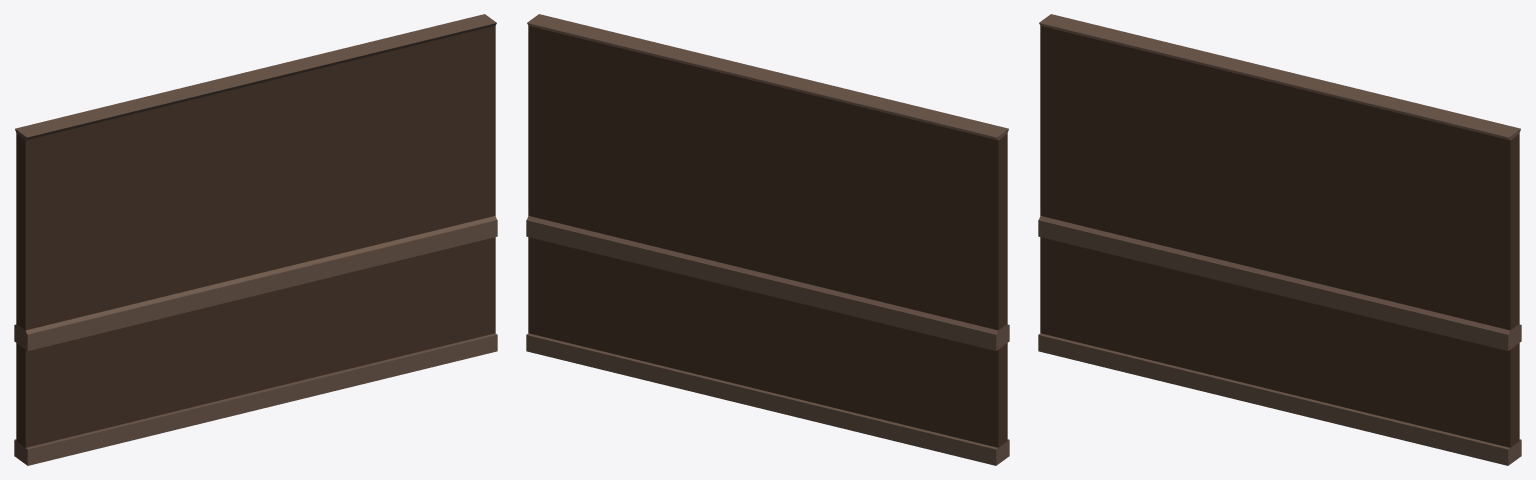
File: Wall_7_Light_Brown.fbx
3 views of the same model, side by side, from view 1: azimuth 30°, elevation 25°; view 2: azimuth 150°, elevation 25°; view 3: azimuth 330°, elevation 25° (orthographic).
Visible parts, largest first — view 1: Wall_7_Light_Brown; view 2: Wall_7_Light_Brown; view 3: Wall_7_Light_Brown.
Boxes of the visible parts, x1=… form: Wall_7_Light_Brown: x1=14, y1=14, x2=497, y2=465; Wall_7_Light_Brown: x1=526, y1=14, x2=1009, y2=465; Wall_7_Light_Brown: x1=1038, y1=14, x2=1521, y2=465.
Size of the model in its own units: 600 by 400 by 30.
